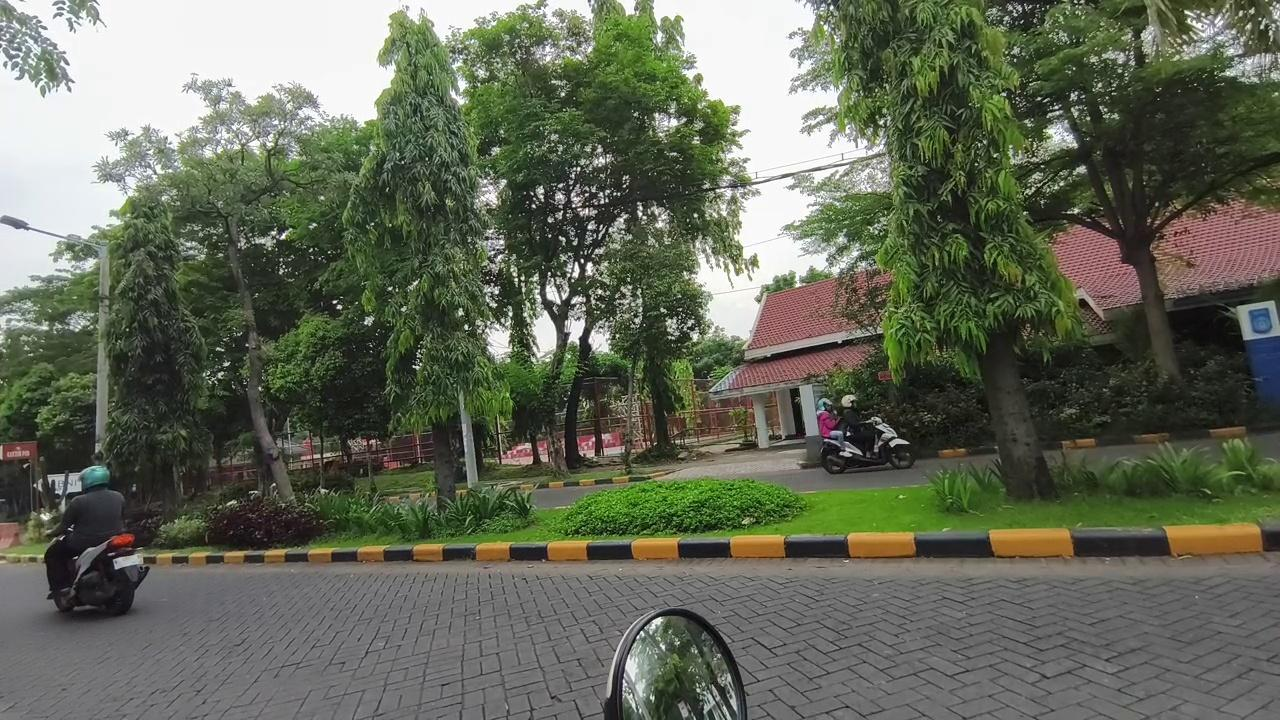Helmet: (44, 464, 124, 598), (837, 394, 874, 453), (817, 398, 851, 454)
Motor: (54, 534, 149, 615), (820, 417, 914, 473)
